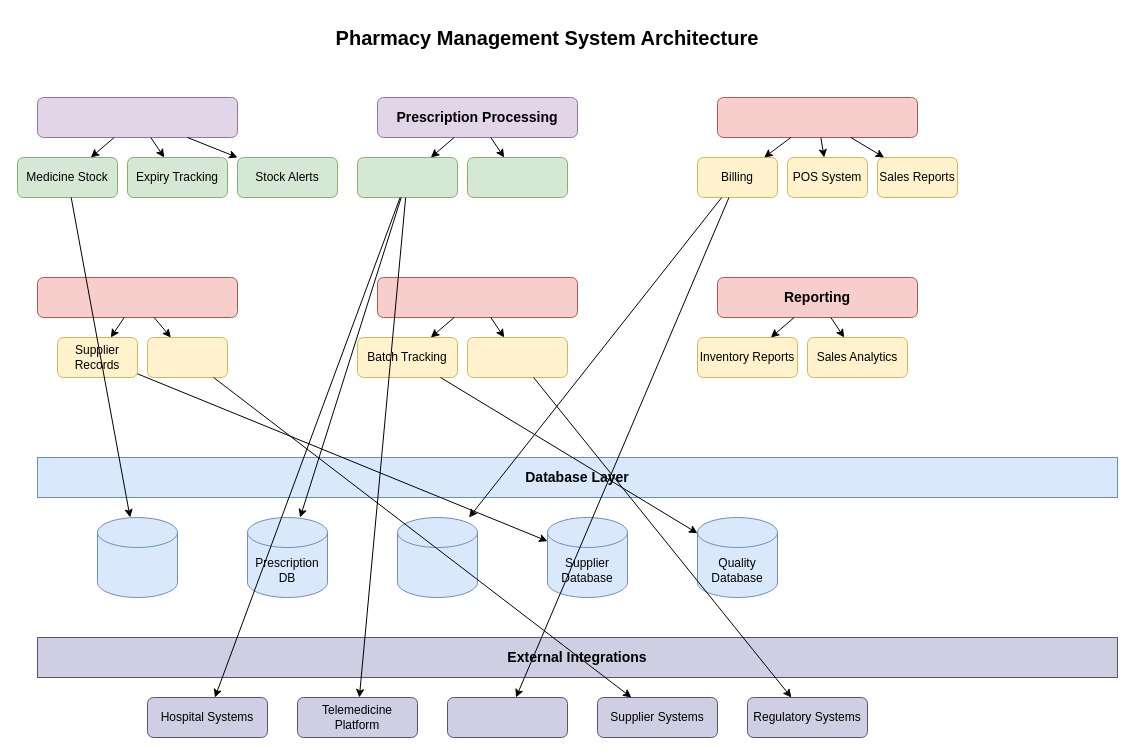
Some shapes in this 1135 by 755 pixel diagram are drawn without their labels. The centre of each missing label's shape, as x and y in pixels:
Inventory: the point at 137,117
Inventory Database: the point at 137,557
Medicine Dispensing: the point at 517,177
Payment Gateway: the point at 507,717
Prescription Validation: the point at 407,177
Purchase Orders: the point at 187,357
Quality Checks: the point at 517,357
Quality Control: the point at 477,297
Sales: the point at 817,117
Sales Database: the point at 437,557
Supplier Management: the point at 137,297
